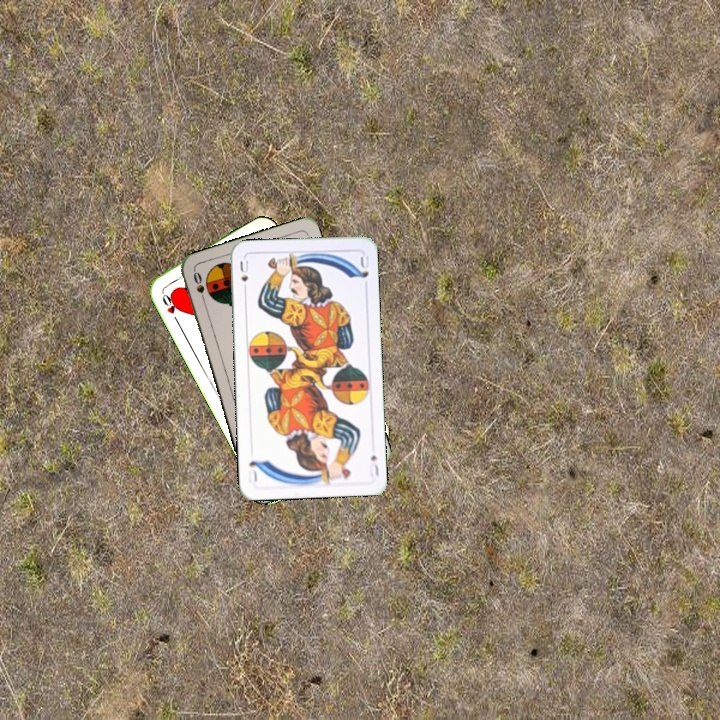HO: (157, 285, 183, 324)
SO: (189, 267, 209, 307)
SU: (236, 256, 251, 296), (365, 451, 381, 479)
